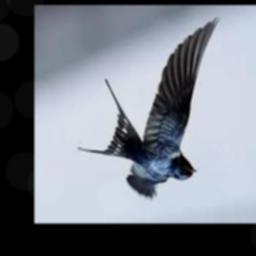Swallow: (78, 16, 221, 201)
